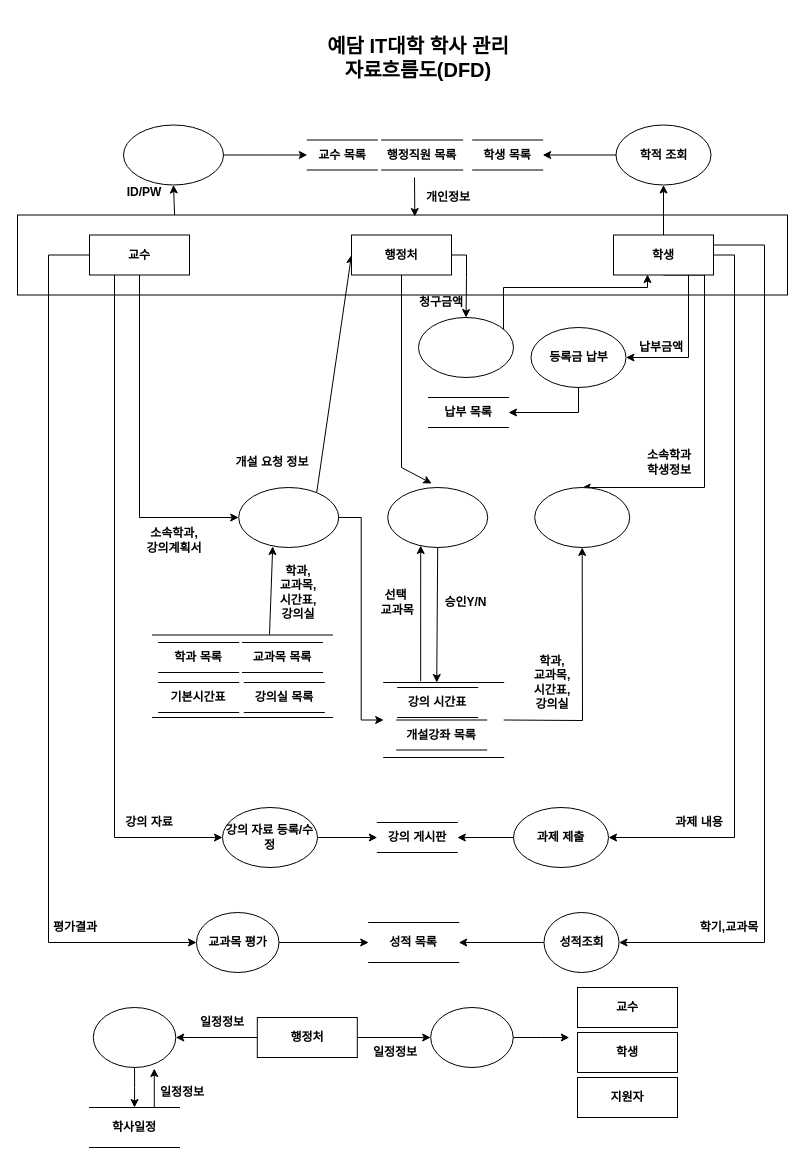
The diagram is 805 pixels wide and 1165 high, and some of its shapes have lost their labels. The shapes that lost their labels are listed below. From the top down, each one's centre as x and y in pixels, then its label:
the point at 173,154: 로그인
the point at 466,347: 등록금 청구 고지
the point at 288,517: 강좌 신청
the point at 437,517: 강좌 신청 승인
the point at 582,517: 수강 신청
the point at 134,1037: 학사일정 관리
the point at 471,1037: 학사 알림
